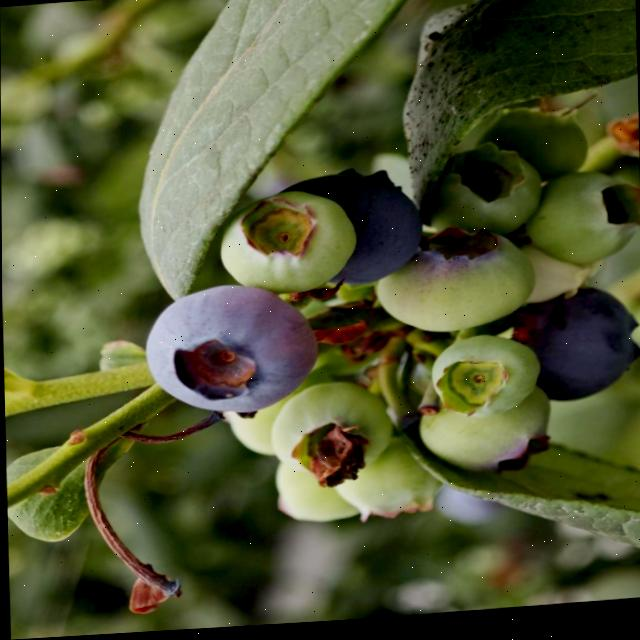RipeBlueBerry: (524, 293, 637, 412)
Semi-RipeBlueBerry: (139, 280, 321, 420)
UnripeBlueBerry: (369, 227, 538, 349), (214, 185, 361, 310), (265, 387, 397, 493), (431, 320, 548, 428), (421, 145, 545, 243), (419, 392, 552, 481), (529, 175, 640, 276), (334, 443, 445, 528), (484, 108, 590, 185)
